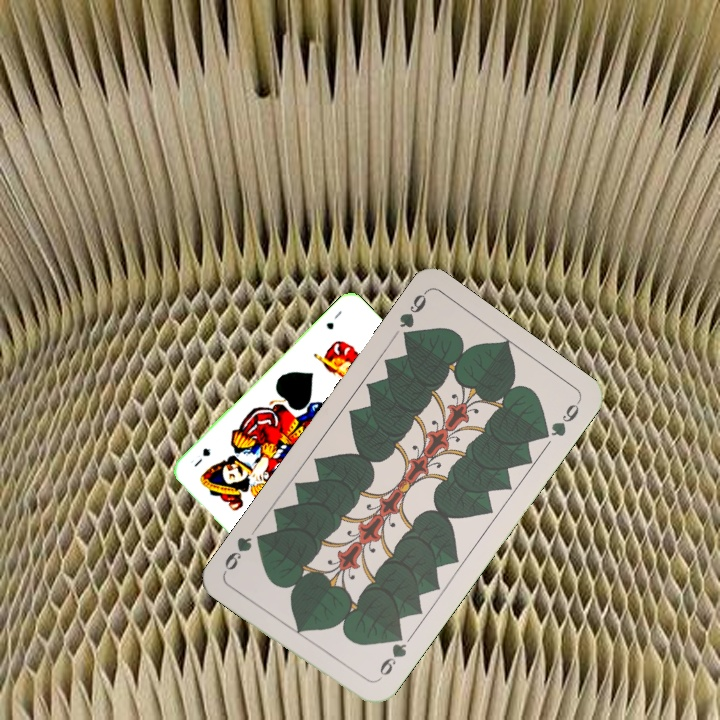G9: (372, 628, 410, 684), (395, 288, 430, 346)
GU: (322, 306, 344, 332)
